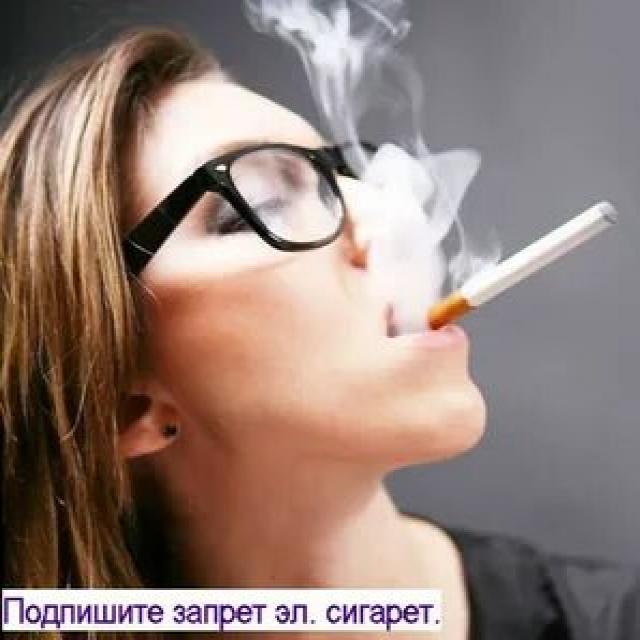smoke: (410, 192, 627, 330)
